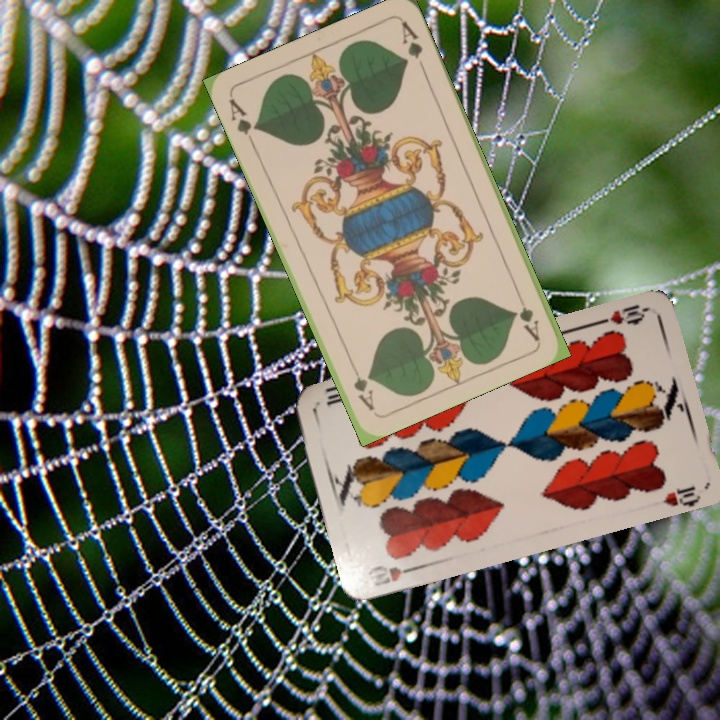GA: (225, 94, 261, 149), (511, 286, 542, 343)
H10: (592, 300, 651, 328), (368, 561, 421, 589)
